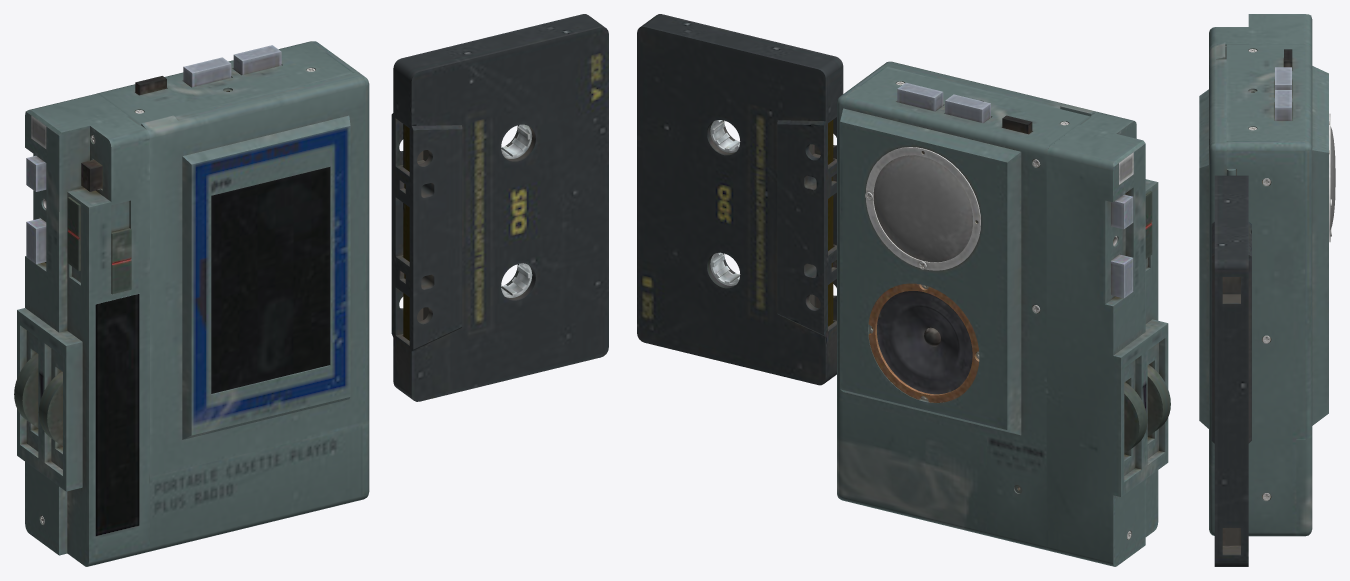
File: detail.fbx
3 views of the same model, side by side, from view 1: azimuth 30°, elevation 25°; view 2: azimuth 150°, elevation 25°; view 3: azimuth 270°, elevation 25° (orthographic). The views are drawn at different scales.
Parts seen in each view (by area): view 1: portable_cassette_player, portable_cassette_player_lid, portable_cassette_player_casette; view 2: portable_cassette_player, portable_cassette_player_casette, portable_cassette_player_lid; view 3: portable_cassette_player, portable_cassette_player_casette, portable_cassette_player_lid.
Boxes of the visible parts, bbox=[...] form: portable_cassette_player: bbox=[14, 41, 369, 566]; portable_cassette_player_lid: bbox=[141, 72, 369, 476]; portable_cassette_player_casette: bbox=[391, 14, 608, 401]; portable_cassette_player: bbox=[837, 66, 1170, 566]; portable_cassette_player_casette: bbox=[637, 14, 843, 385]; portable_cassette_player_lid: bbox=[881, 61, 1097, 116]; portable_cassette_player: bbox=[1209, 14, 1335, 536]; portable_cassette_player_casette: bbox=[1211, 175, 1251, 566]; portable_cassette_player_lid: bbox=[1199, 42, 1235, 466].
Bounding box in the file's own units: 17.23 × 13.03 × 3.97.
